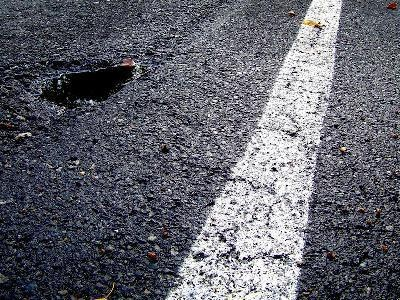pothole: (22, 52, 144, 125)
